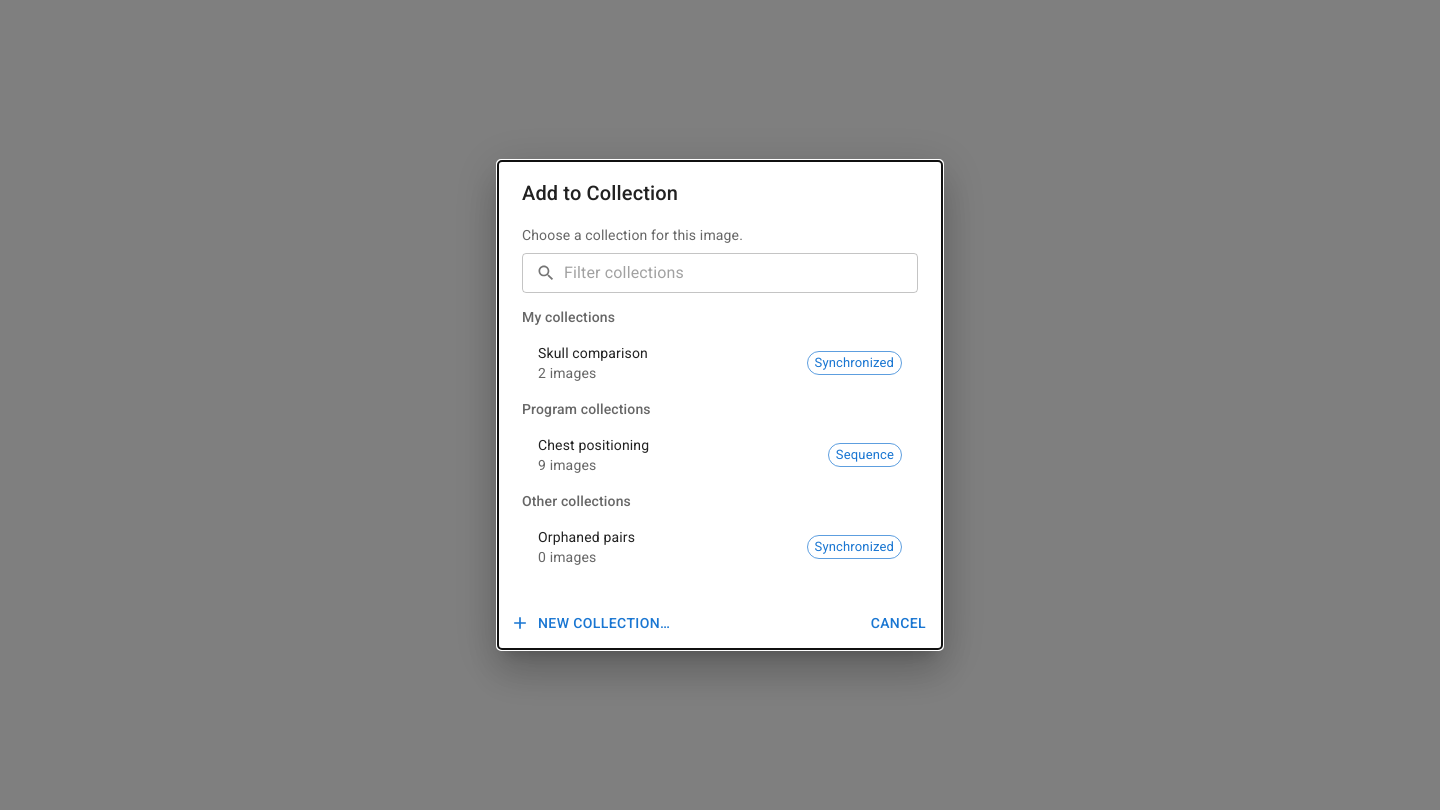
Test case: AddToCollectionDialog › filters by name and shows the no-match copy
Type "chest" into the field labelled "Filter collections".
click(741, 273); type("chest")  # box [564,253,918,293]
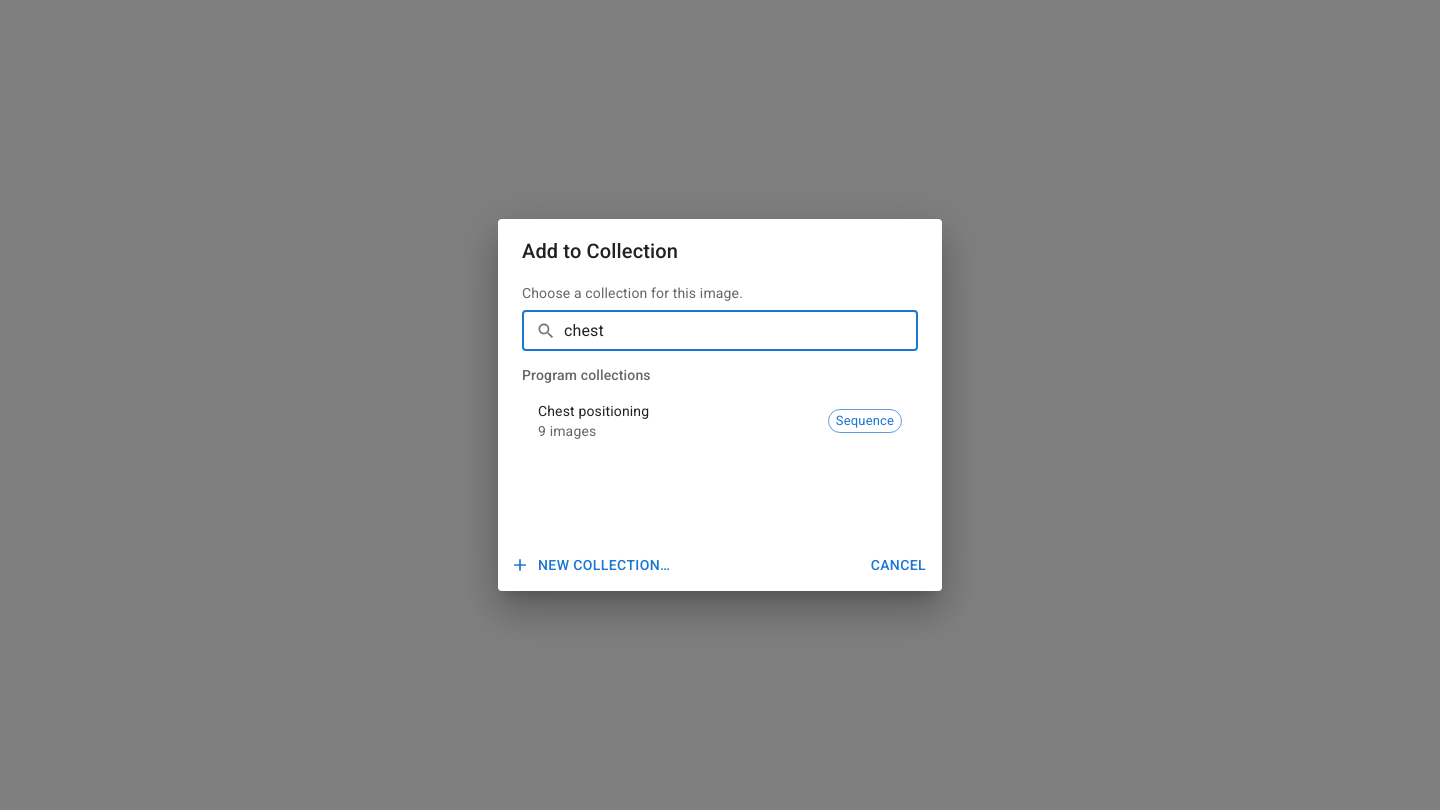
Expected: the button with aria-label "Add to Chest positioning" is shown, [522,391,918,451]
Clear the field named "Filter collections" at coordinates (741, 331), box [564,311,918,351]
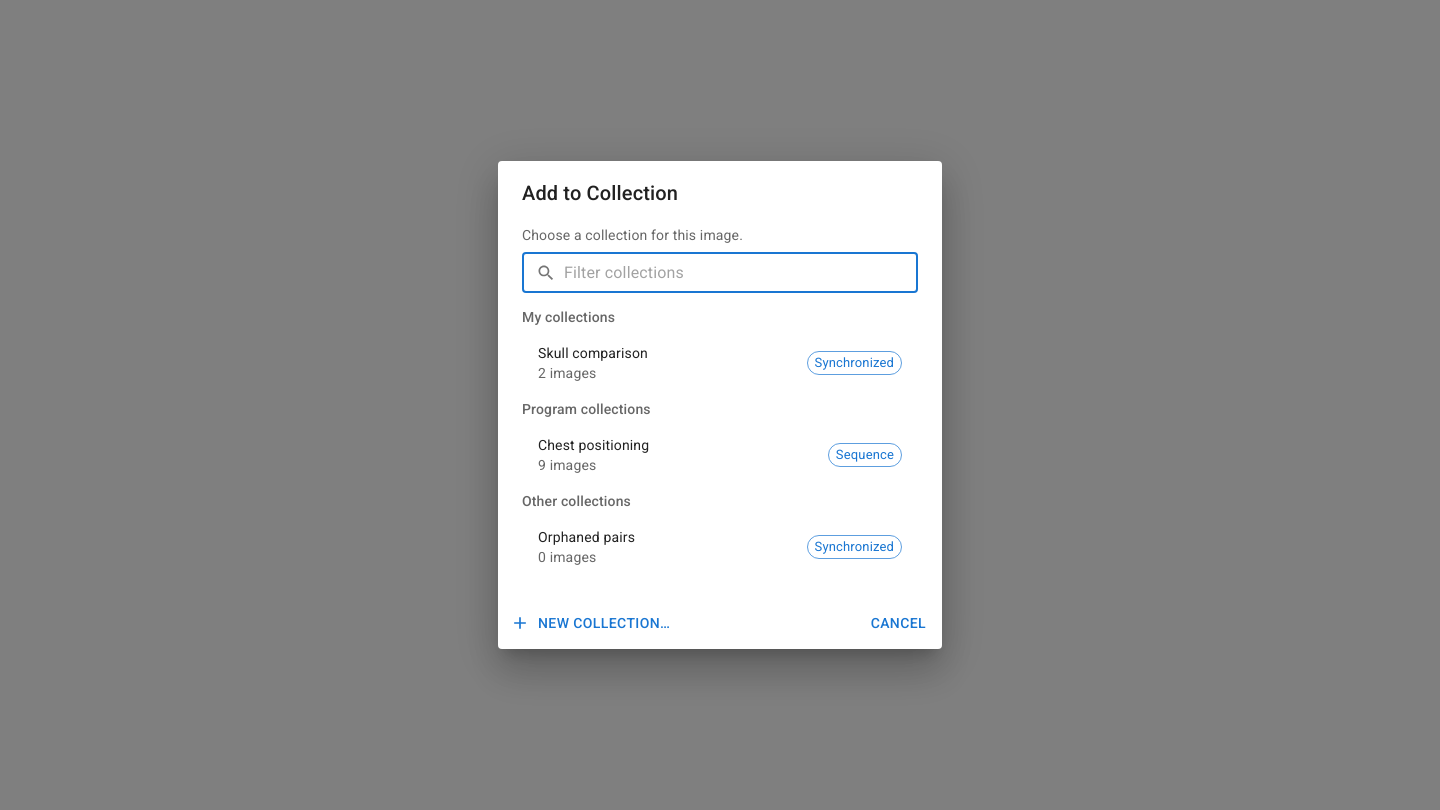
Type "zzz" into the field labelled "Filter collections".
click(741, 273); type("zzz")  # box [564,253,918,293]
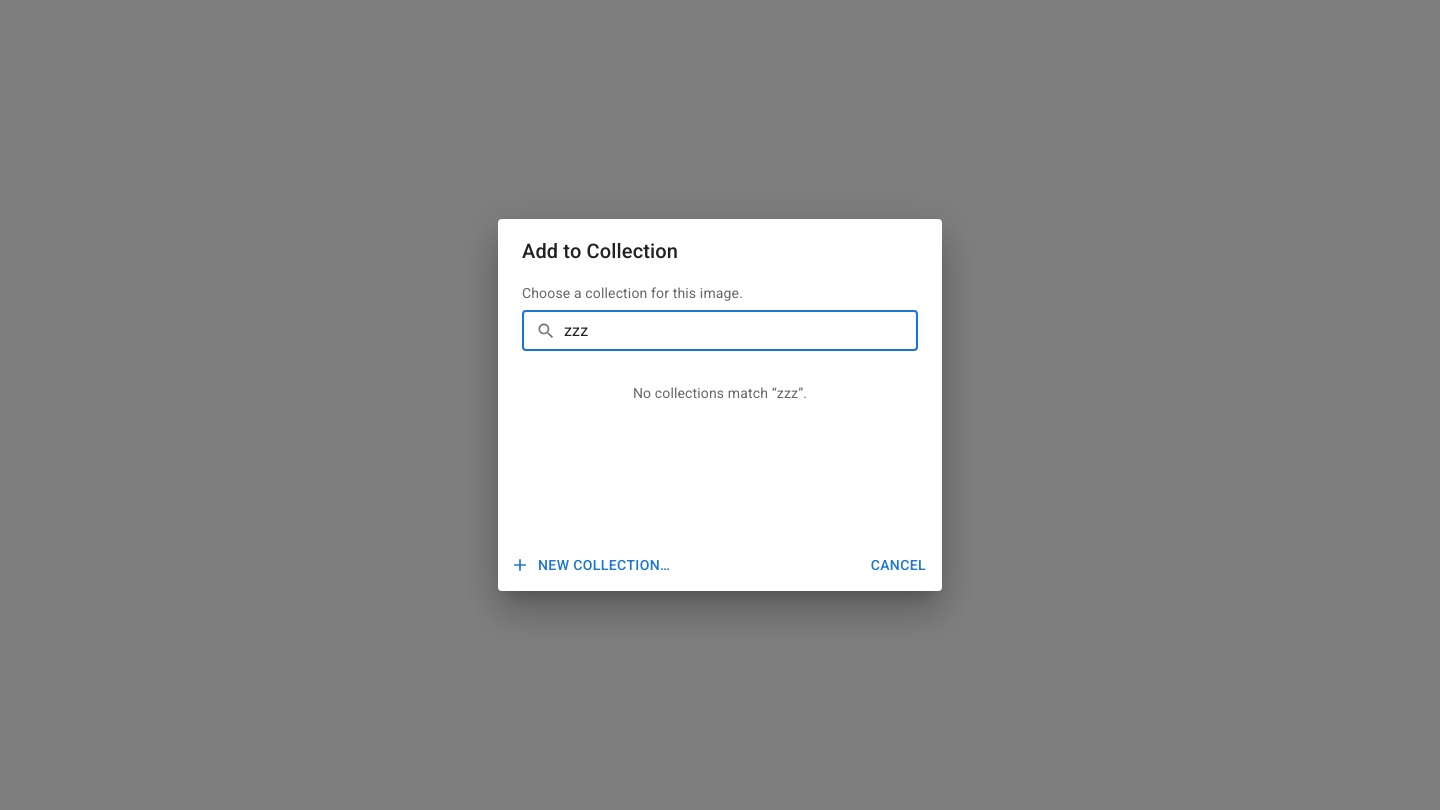
Expected: the text "No collections match “zzz”." is shown, [633,385,807,401]
